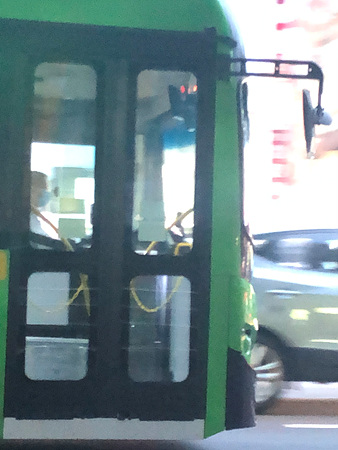entrance: (17, 35, 203, 412)
